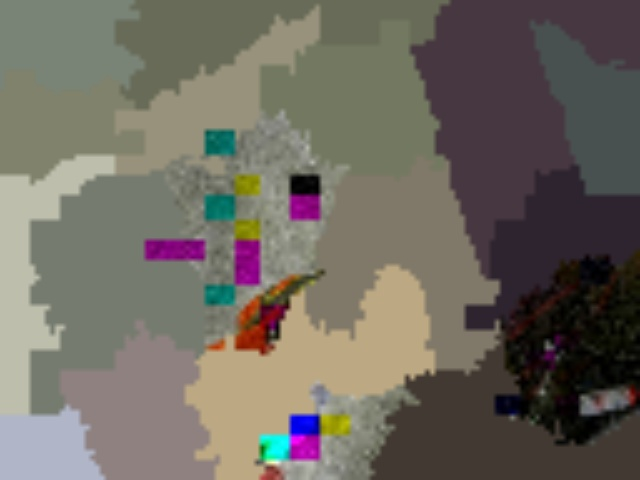eight: (315, 277, 370, 349)
